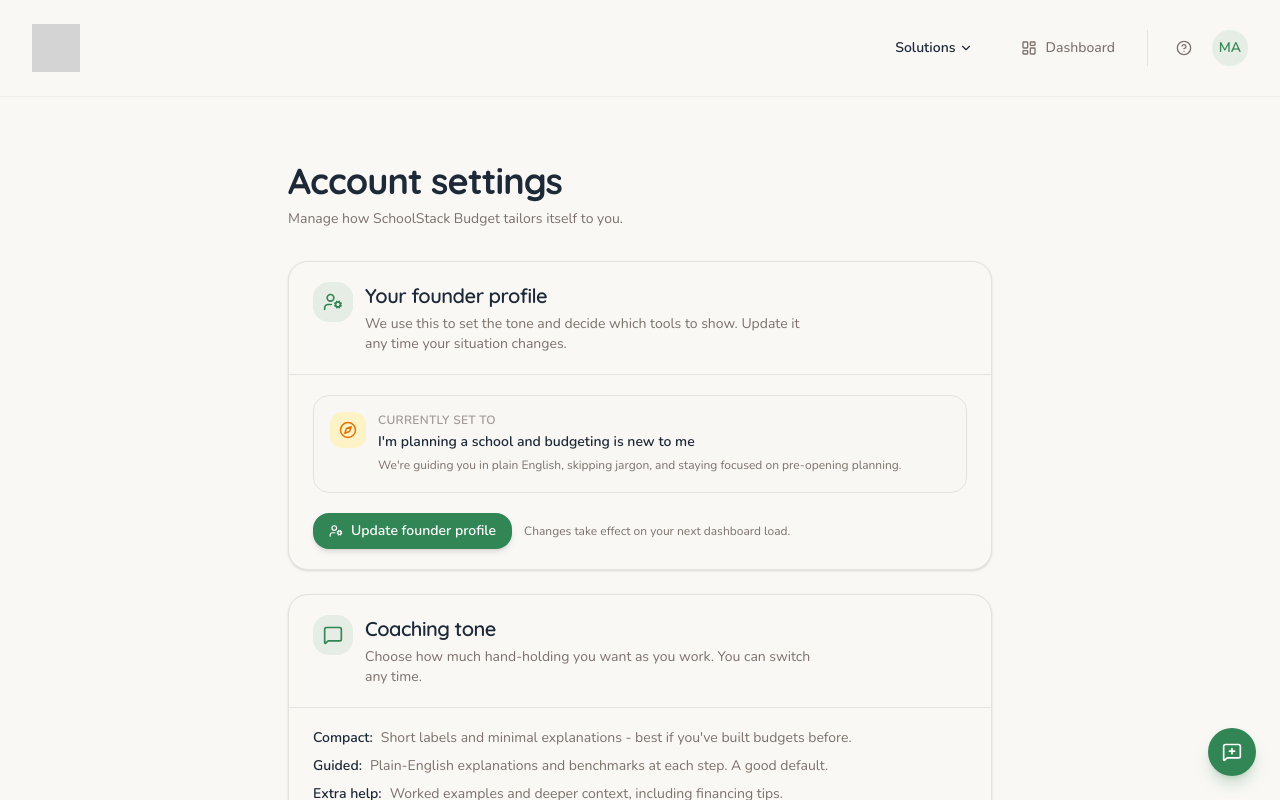
Test: SettingsPage — Your founder profile card › opens the FounderPersonaPrompt in edit mode when the update button is clicked
Click the button with test id "settings-founder-profile-edit". click: (413, 530)
box: [313,512,512,548]
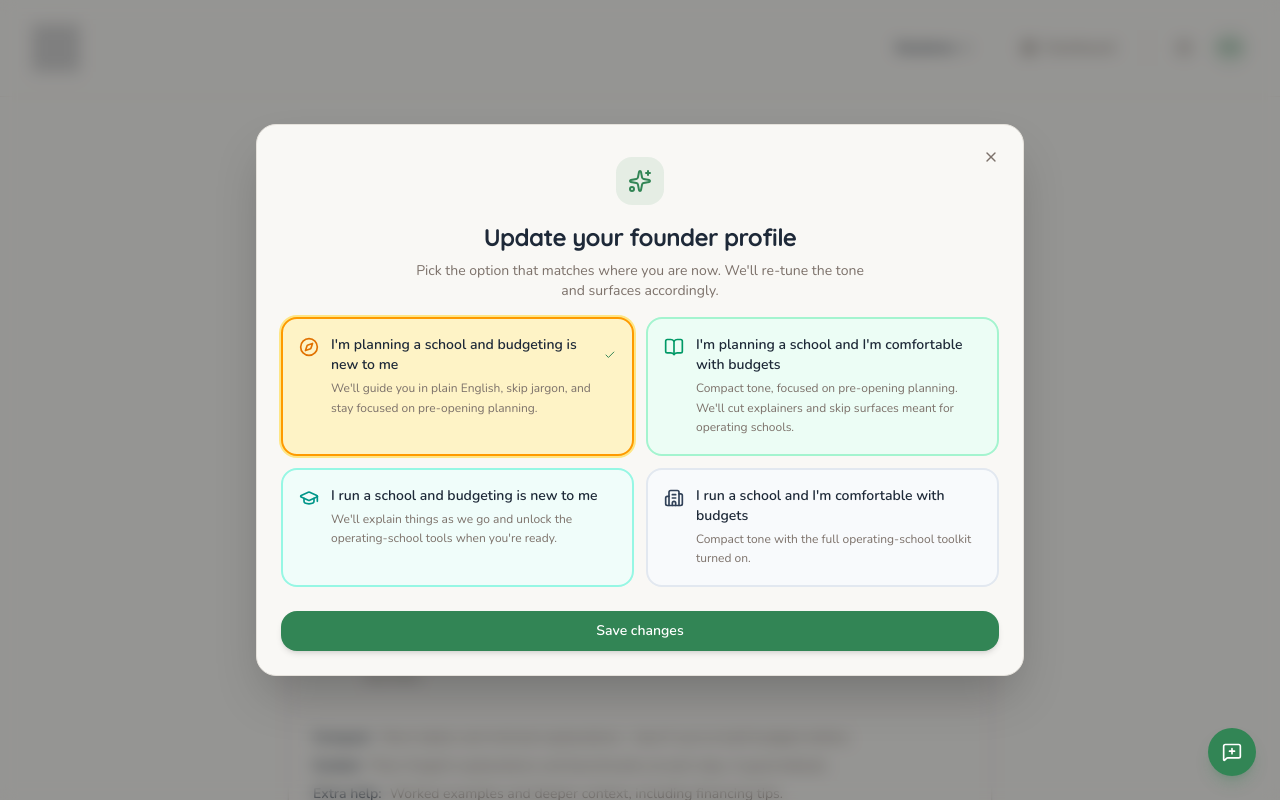
Expected: the dialog with test id "founder-persona-prompt" is shown
Expected: the button with test id "persona-prompt-close" is shown, [975,141,1007,173]
